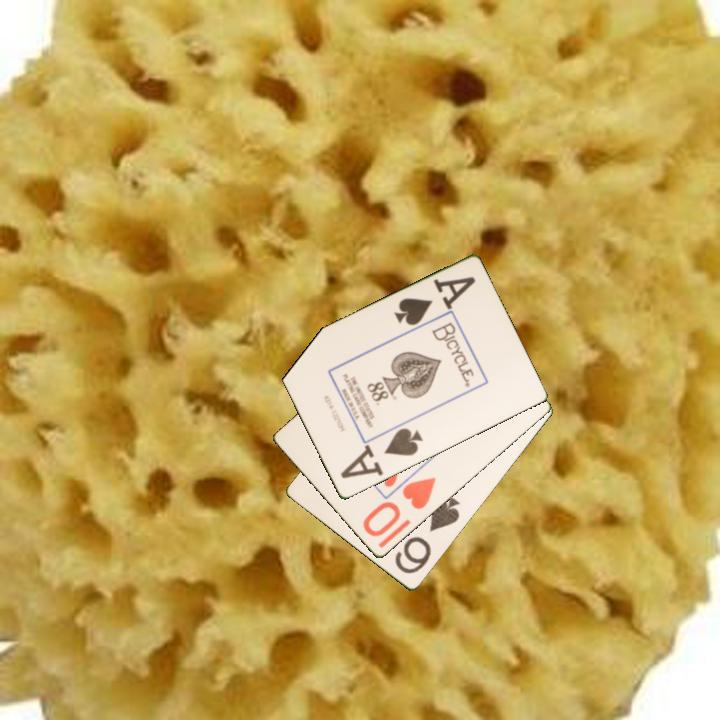10h: (359, 474, 439, 540)
6s: (391, 492, 463, 577)
As: (390, 273, 478, 329), (345, 425, 426, 477)
